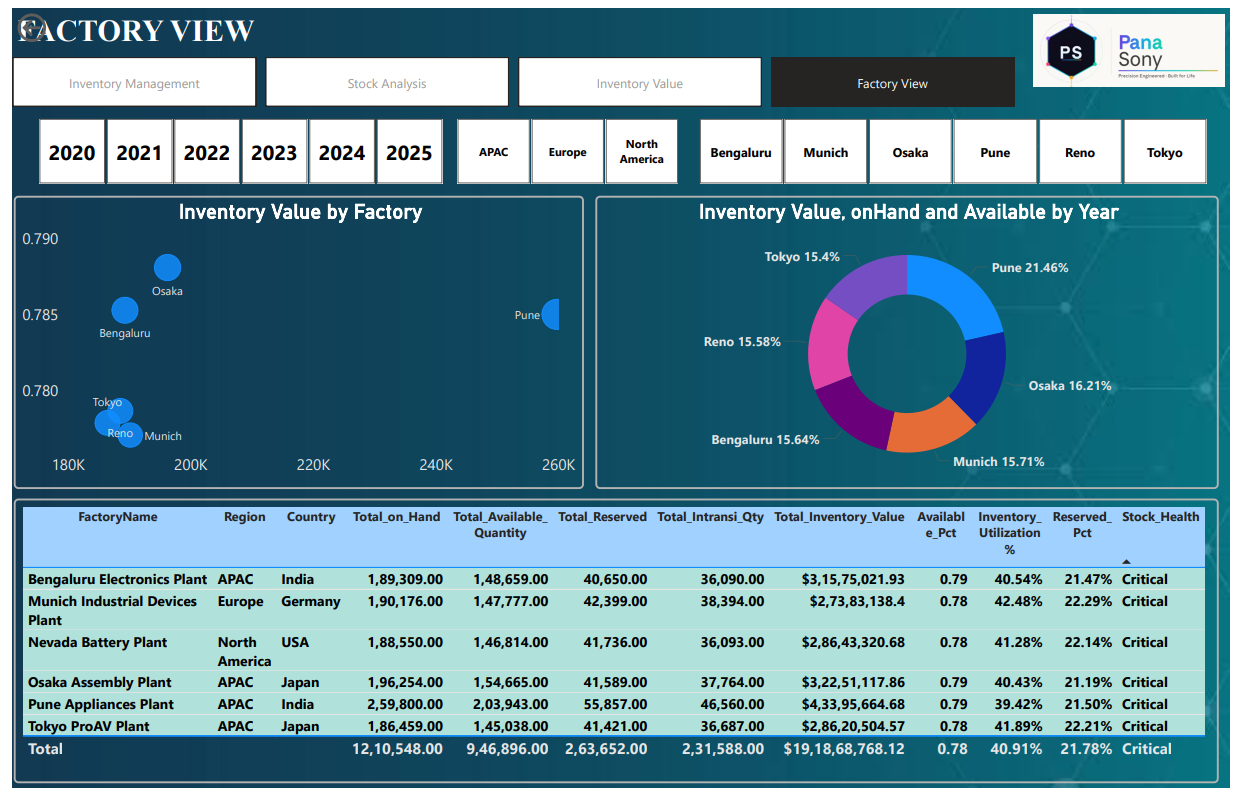

Layout of this report page (visuals, bound fields, positions):
{"tool":"powerbi","page":{"name":"Factory View","canvas":[1280,820],"ordinal":3},"visuals":[{"type":"textbox","box":[0,0,696.7,51.4],"z":0},{"type":"image","box":[1068.6,0,211.7,88.2],"z":1000},{"type":"pageNavigator","box":[0,50.7,1056.7,52.2],"z":2000},{"type":"slicer","fields":{"Values":["InventoryAnalytics.YearNumber"]},"box":[1.5,109.1,474.2,81.8],"z":3000},{"type":"slicer","fields":{"Values":["InventoryAnalytics.Region"]},"box":[442.4,109.1,281.8,81.8],"z":4000},{"type":"slicer","fields":{"Values":["InventoryAnalytics.City"]},"box":[697,109.1,583.3,81.8],"z":5000},{"type":"scatterChart","title":"Inventory Value by Factory","fields":{"Category":["InventoryAnalytics.City"],"X":["InventoryAnalytics.Total_on_Hand"],"Size":["InventoryAnalytics.Total_Inventory_Value"],"Y":["InventoryAnalytics.Available_Pct"]},"box":[1.5,197,600,309],"z":6000},{"type":"donutChart","title":"Inventory Value, onHand and Available by Year","fields":{"Category":["InventoryAnalytics.City"],"Y":["InventoryAnalytics.Total_on_Hand"]},"box":[613.4,197,655.2,309],"z":7000},{"type":"tableEx","title":"Total Inventory Value by  BusinessUnitName","fields":{"Values":["InventoryAnalytics.FactoryName","InventoryAnalytics.Region","InventoryAnalytics.Country","InventoryAnalytics.Total_on_Hand","InventoryAnalytics.Total_Available_Quantity","InventoryAnalytics.Total_Reserved","InventoryAnalytics.Total_Intransi_Qty","InventoryAnalytics.Total_Inventory_Value","InventoryAnalytics.Available_Pct","InventoryAnalytics.Inventory_Utilization %","InventoryAnalytics.Reserved_Pct","InventoryAnalytics.Stock_Health"]},"box":[1.5,516.4,1267.2,300],"z":8000},{"type":"actionButton","box":[0,0,100,40],"z":9000}]}

Visuals, with their boxes in screenshot pixels (x1, y1, x2, y2), scaled from the page's 1280x820 canvas onto the 1240x798 screenshot:
textbox: (left=0, top=0, right=675, bottom=50)
image: (left=1035, top=0, right=1239, bottom=86)
pageNavigator: (left=0, top=49, right=1024, bottom=100)
slicer - InventoryAnalytics.YearNumber: (left=1, top=106, right=461, bottom=186)
slicer - InventoryAnalytics.Region: (left=429, top=106, right=702, bottom=186)
slicer - InventoryAnalytics.City: (left=675, top=106, right=1239, bottom=186)
"Inventory Value by Factory" scatterChart: (left=1, top=192, right=583, bottom=492)
"Inventory Value, onHand and Available by Year" donutChart: (left=594, top=192, right=1229, bottom=492)
"Total Inventory Value by  BusinessUnitName" tableEx: (left=1, top=503, right=1229, bottom=794)
actionButton: (left=0, top=0, right=97, bottom=39)
